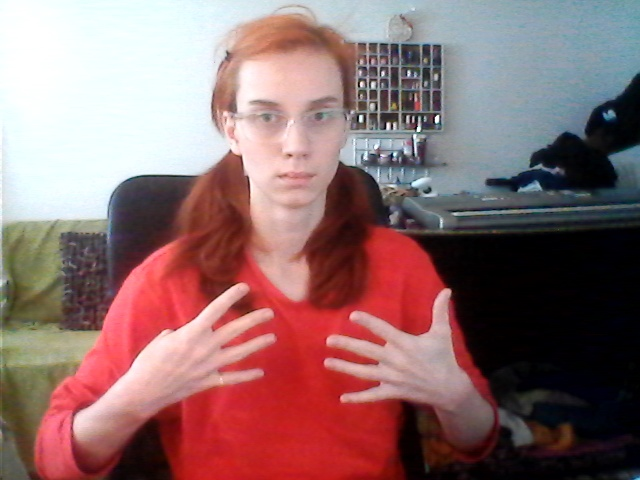devat: (126, 278, 468, 409)
